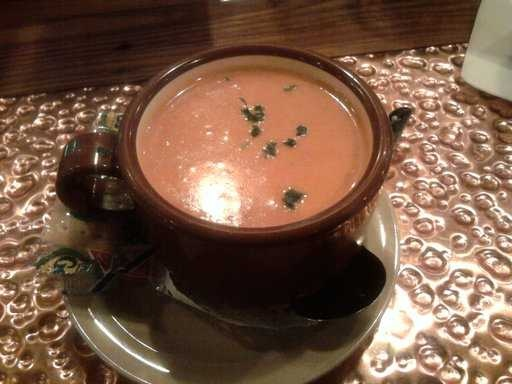soup: (116, 54, 385, 225)
